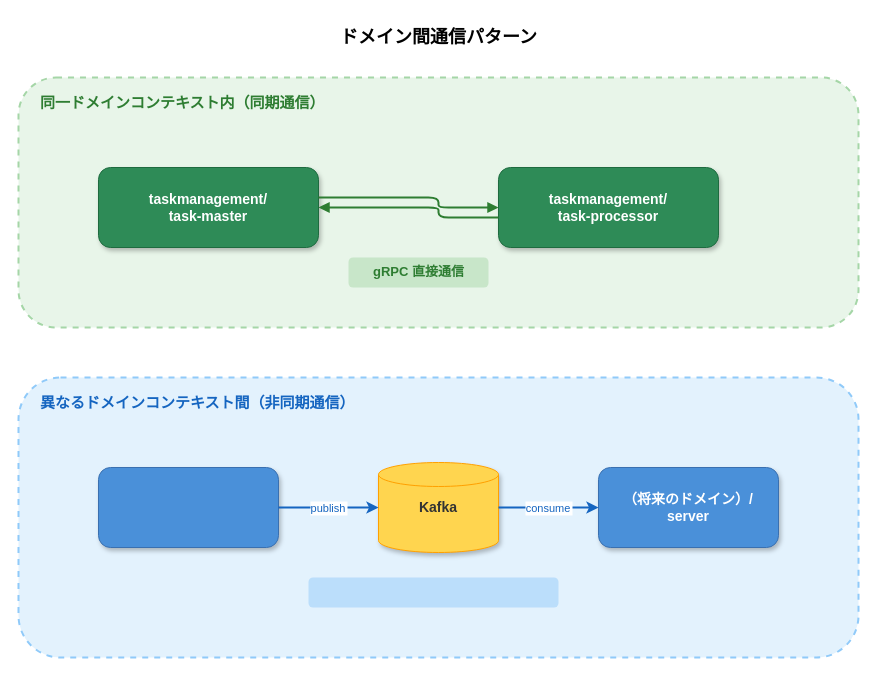
The diagram is 876 pixels wide and 675 high, and some of its shapes have lost their labels. The shapes that lost their labels are listed below. From the top down, each one's centre as x and y in pixels, then its label:
point 189,508: taskmanagement/ server
point 433,592: TaskCreated イベント
